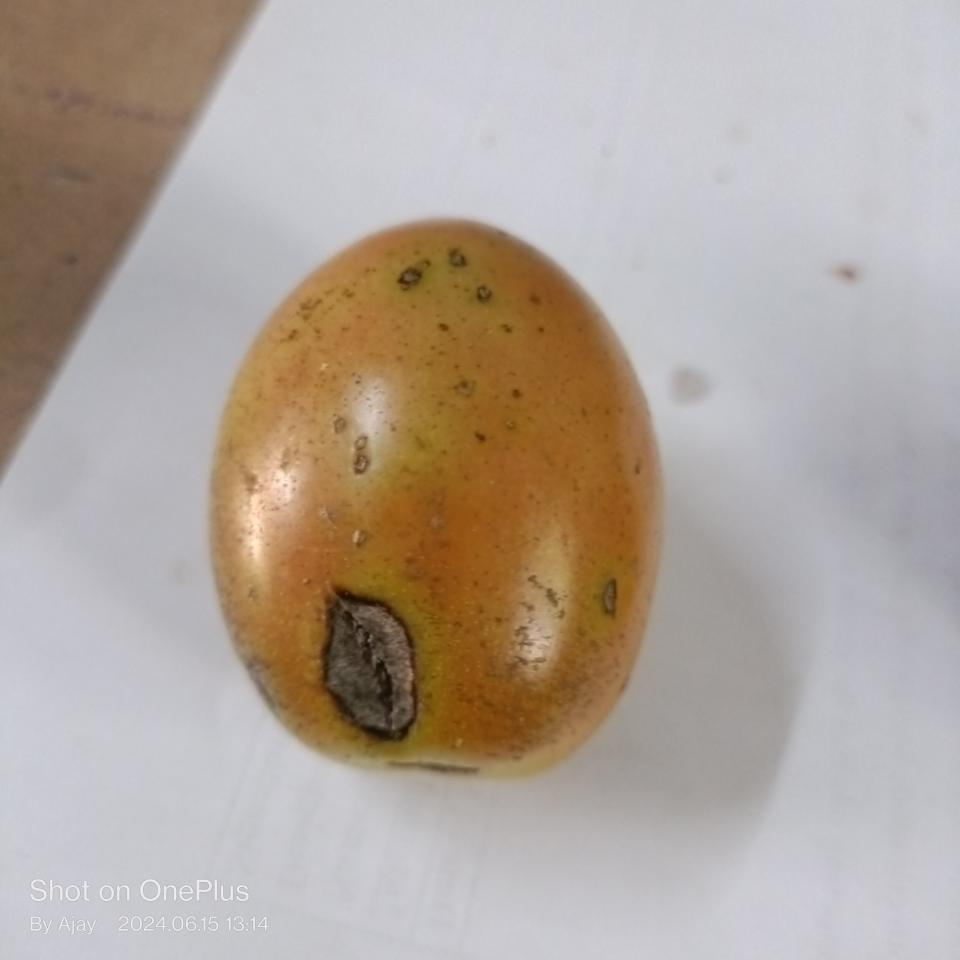Bacterial_Spot: (314, 589, 420, 739), (447, 245, 498, 310), (594, 569, 632, 623), (343, 433, 382, 478), (397, 256, 426, 297)
